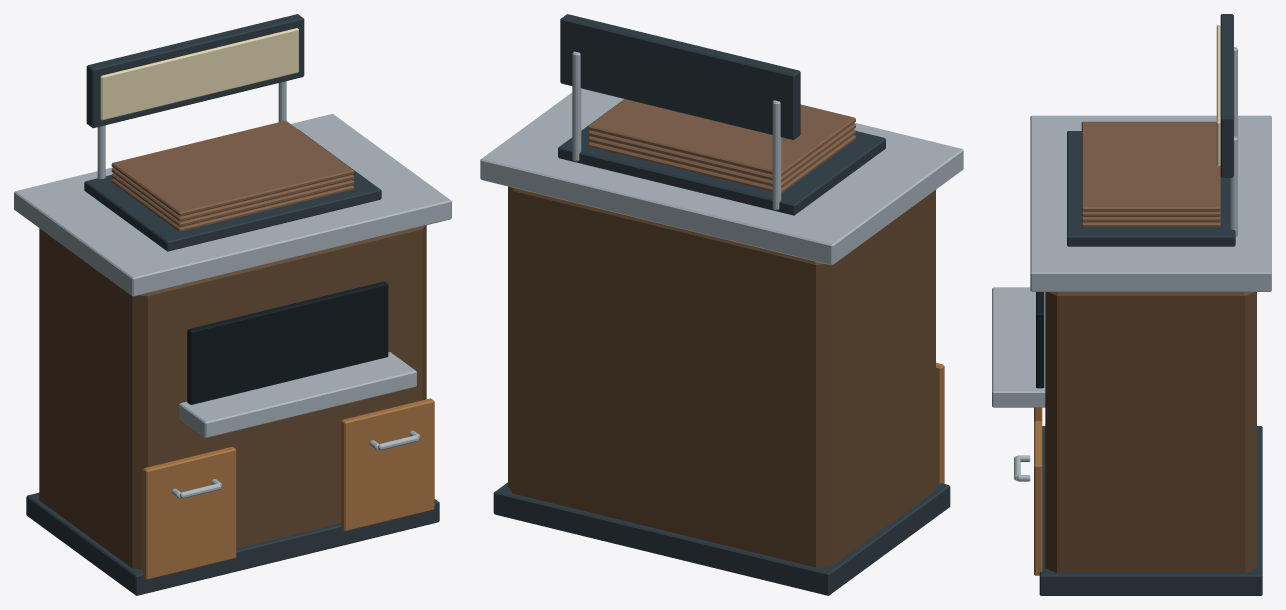
File: b10_outdoor_cafeteria_tray_return_station.glb
3 renders of one model, left to right at view 1: azimuth 30°, elevation 25°; view 2: azimuth 150°, elevation 25°; view 3: azimuth 270°, elevation 25°, orthographic. The views are drawn at different scales.
Visible parts, largest first — view 1: b10_outdoor_cafeteria_tray_return_station; view 2: b10_outdoor_cafeteria_tray_return_station; view 3: b10_outdoor_cafeteria_tray_return_station.
Boxes of the visible parts, <box> form: b10_outdoor_cafeteria_tray_return_station: <box>14,14,451,595</box>; b10_outdoor_cafeteria_tray_return_station: <box>480,14,963,595</box>; b10_outdoor_cafeteria_tray_return_station: <box>992,14,1271,595</box>.
Size of the model in its own units: 1.13 by 1.52 by 0.846.
